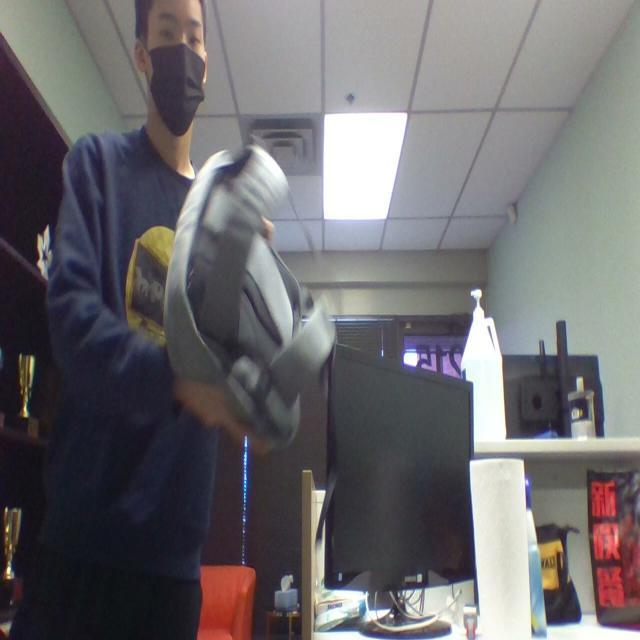Backpacks: (168, 150, 334, 440)
